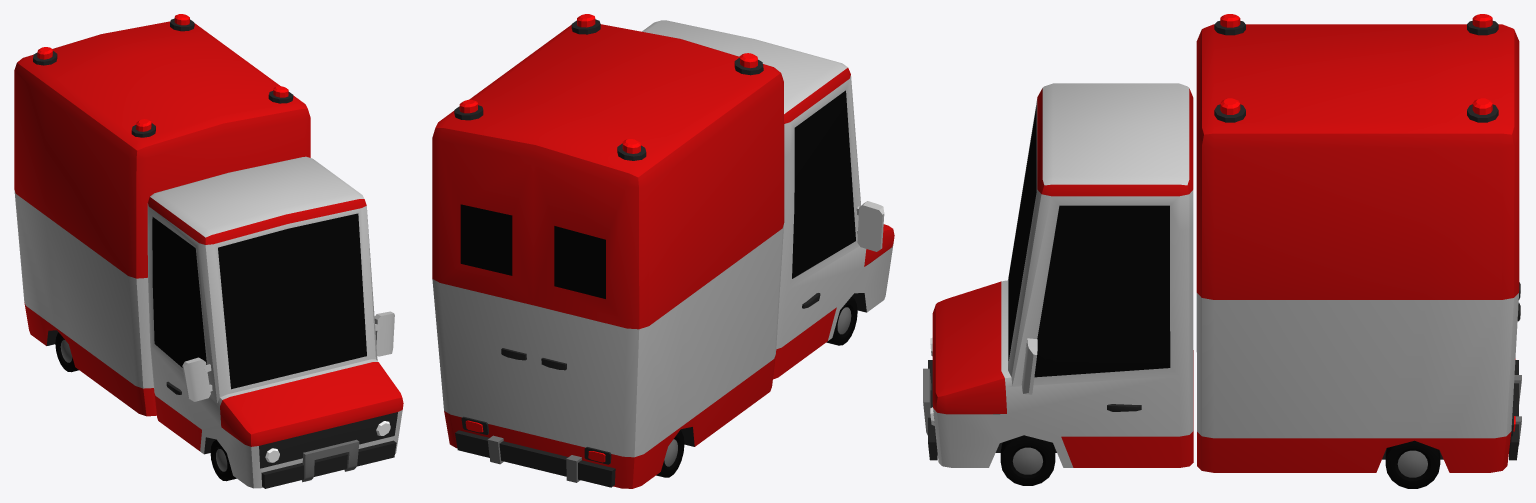
3 renders of one model, left to right at view 1: azimuth 30°, elevation 25°; view 2: azimuth 150°, elevation 25°; view 3: azimuth 270°, elevation 25°, orthographic. The views are drawn at different scales.
Visible parts, largest first — view 1: Cube.001, Cube, Cube.008, Cube.002, Cylinder.002, Cylinder.003; view 2: Cube.001, Cube, Cube.008, Cube.002, Cylinder.002, Cylinder.003; view 3: Cube.001, Cube, Cylinder.000, Cylinder.001, Cube.008, Cube.002.
Boxes of the visible parts, x1,y1,x2,y2 form: Cube.001: (14, 14, 310, 416); Cube: (147, 156, 403, 488); Cube.008: (259, 412, 397, 488); Cube.002: (182, 311, 394, 401); Cylinder.002: (210, 439, 236, 481); Cylinder.003: (55, 332, 78, 372); Cube.001: (432, 14, 784, 488); Cube: (642, 20, 894, 379); Cube.008: (455, 416, 615, 487); Cube.002: (856, 201, 884, 251); Cylinder.002: (826, 296, 857, 345); Cylinder.003: (656, 430, 684, 477); Cube.001: (1196, 14, 1520, 472); Cube: (932, 83, 1193, 467); Cylinder.000: (1000, 435, 1055, 485); Cylinder.001: (1385, 440, 1440, 488); Cube.008: (923, 337, 1521, 460); Cube.002: (1021, 338, 1037, 394).
Bounding box in the file's own units: 166 × 226 × 319.
Materials: 1 (1 with a texture image).
